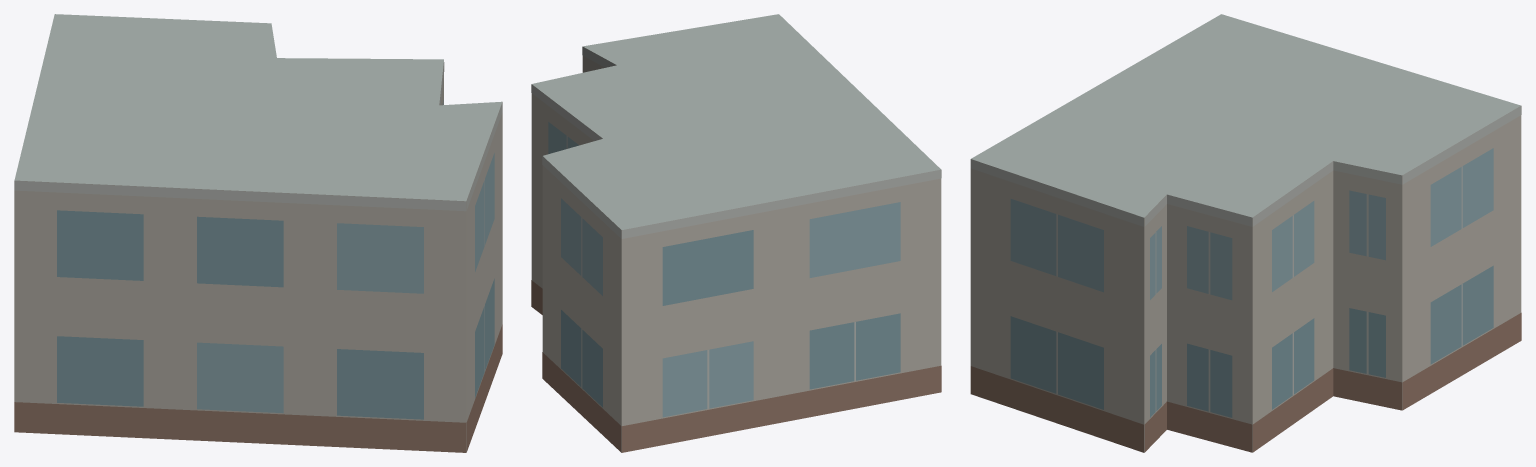
Rendered from survey-upis-32898960.glb.
The picture shows the model from 3 angles, left to right: view 1: azimuth 30°, elevation 25°; view 2: azimuth 150°, elevation 25°; view 3: azimuth 270°, elevation 25°; orthographic projection. The views are drawn at different scales.
Visible parts, largest first — view 1: survey-upis-32898960.tmp; view 2: survey-upis-32898960.tmp; view 3: survey-upis-32898960.tmp.
Part boxes in pixels (left/top/right/bottom): survey-upis-32898960.tmp: left=14, top=14, right=502, bottom=452; survey-upis-32898960.tmp: left=531, top=14, right=941, bottom=452; survey-upis-32898960.tmp: left=970, top=14, right=1521, bottom=452.
Bounding box in the file's own units: 11.35 × 6.1 × 12.96.
